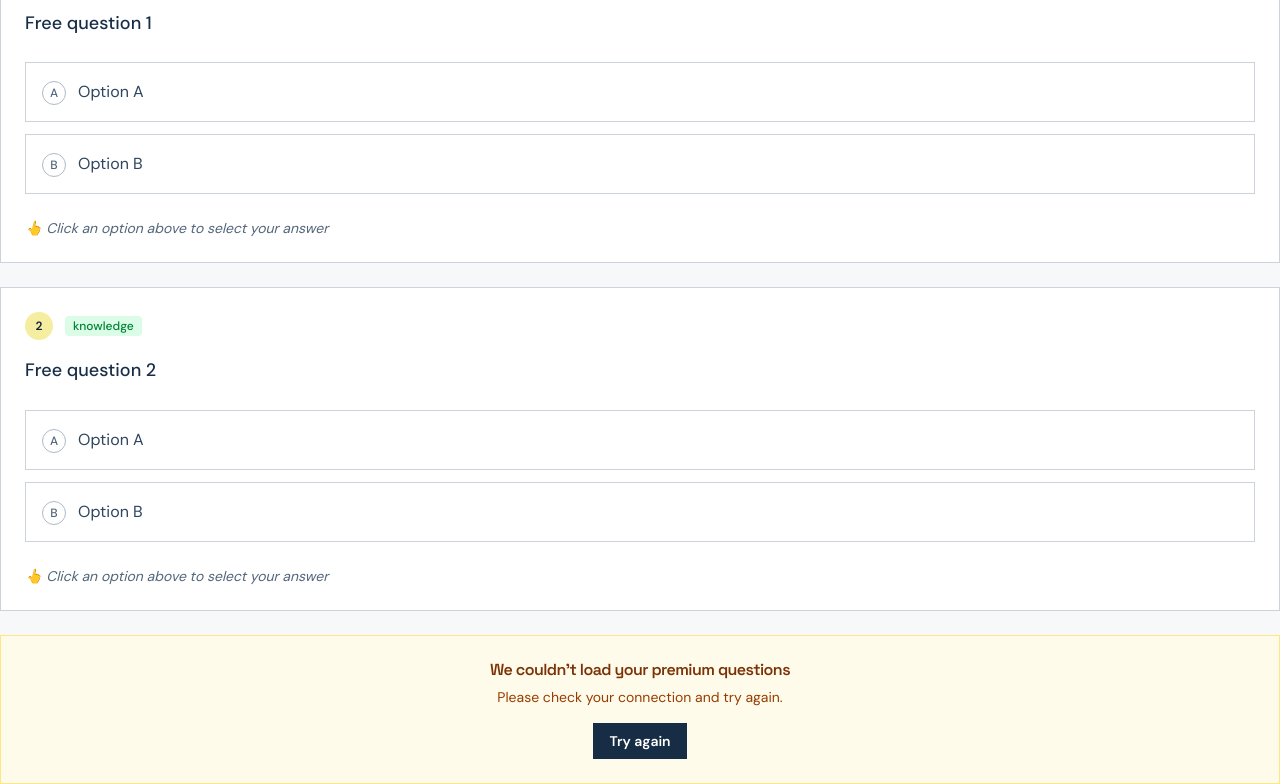
QuestionsWithPaywall revenue gate › shows a retryable error when premium questions fail to load
The width and height of the screenshot is (1280, 784).
(page scrolled)
Expected: the message shows "couldn.t load your premium questions", [490, 658, 790, 680]
Expected: the text "Free question 1" is shown, [25, 11, 152, 35]
Click the button "Try again". click: [640, 741]
box: [593, 723, 687, 759]
(page scrolled)
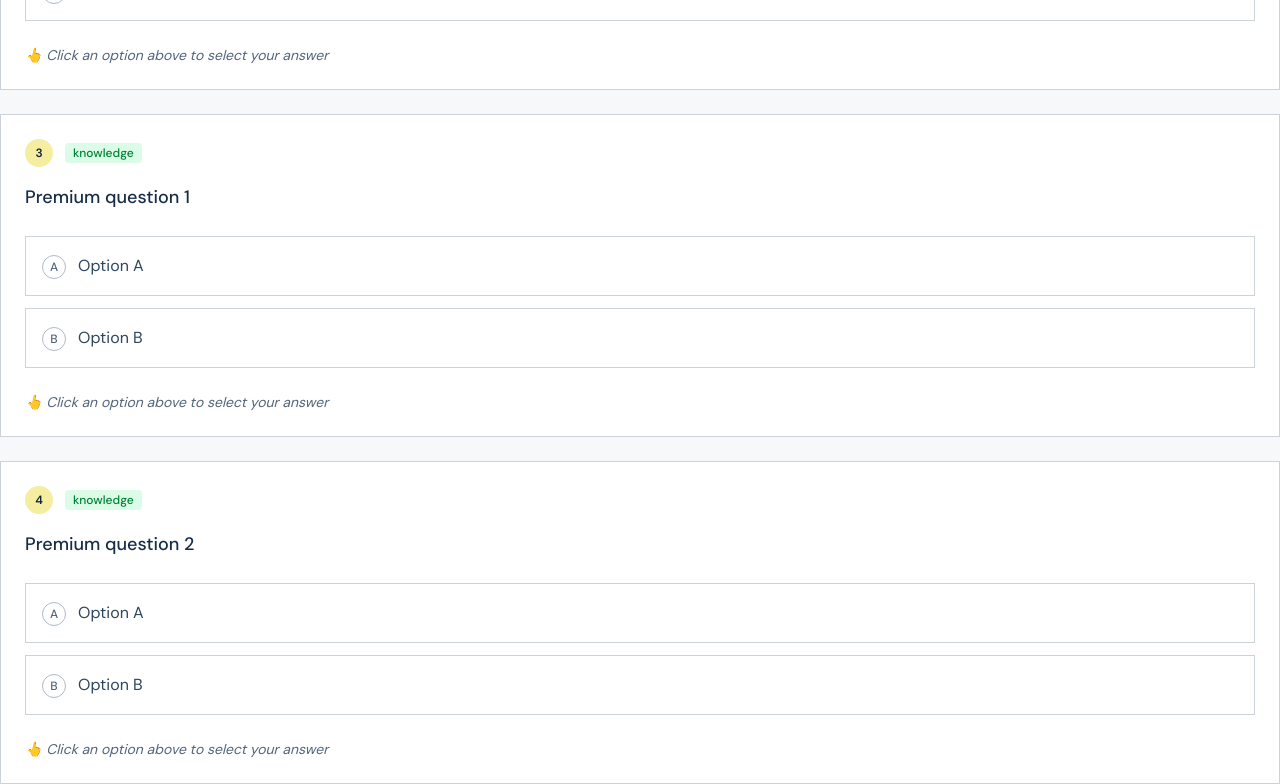
Result: the text "Premium question 2" is shown at [25, 532, 194, 556]
Result: the message is gone
